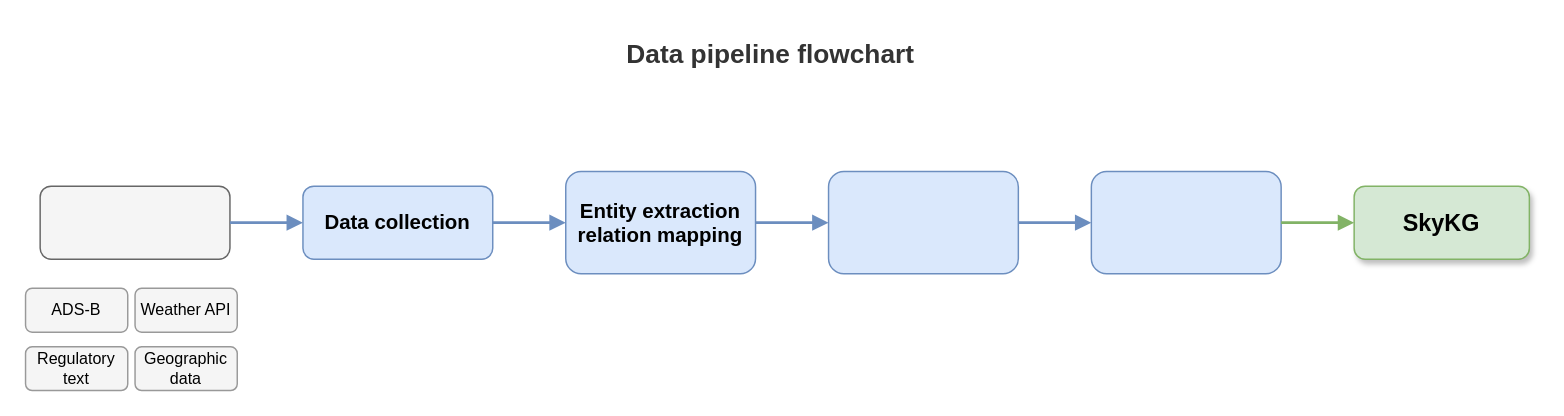
Image size: 1564x416. Some labels were removed from this diagram. Each missing label, with the centre of its shape:
Graph update version management: (1185,222)
Knowledge fusion conflict resolution: (922,222)
Raw data: (134,222)
